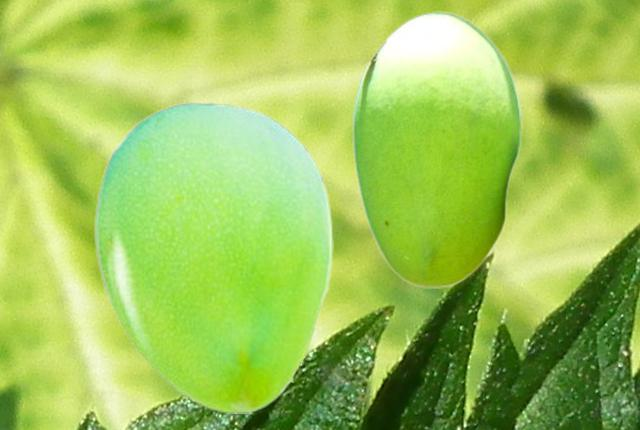green_mango: (93, 101, 332, 412), (351, 10, 521, 287)
